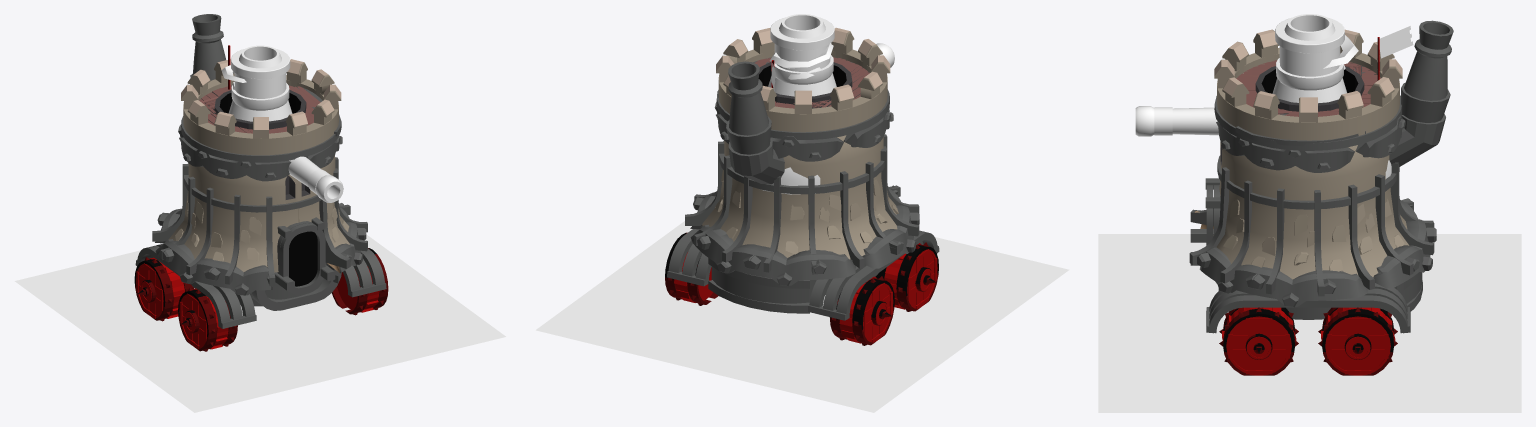
The model's file is Mob_MortarTower.glb.
3 views of the same model, side by side, from view 1: azimuth 30°, elevation 25°; view 2: azimuth 150°, elevation 25°; view 3: azimuth 270°, elevation 25° (orthographic). The views are drawn at different scales.
Visible parts, largest first — view 1: MortarVehicle, VFX_Slow, Little_Mortar, radtest (2), radtest (1), Cube.119, radtest; view 2: MortarVehicle, VFX_Slow, Little_Mortar, radtest (1) (×2), radtest (2), Wanderburg_Models_tf_Stun_001; view 3: MortarVehicle, VFX_Slow, Little_Mortar, radtest, radtest (1), Cube.119, Flag, Wanderburg_Models_tf_Stun_001.
Boxes of the visible parts, x1,y1,x2,y2 form: MortarVehicle: [135, 14, 386, 328]; VFX_Slow: [14, 234, 505, 412]; Little_Mortar: [228, 45, 292, 121]; radtest (2): [134, 257, 193, 321]; radtest (1): [178, 287, 237, 351]; Cube.119: [288, 156, 343, 202]; radtest: [332, 248, 388, 315]; MortarVehicle: [667, 27, 939, 320]; VFX_Slow: [536, 212, 1069, 412]; Little_Mortar: [768, 14, 836, 96]; radtest (1) (×2): [665, 232, 938, 311]; radtest (2): [829, 276, 894, 345]; Wanderburg_Models_tf_Stun_001: [769, 43, 833, 79]; MortarVehicle: [1189, 20, 1453, 333]; VFX_Slow: [1098, 234, 1521, 412]; Little_Mortar: [1272, 14, 1346, 103]; radtest: [1219, 307, 1298, 375]; radtest (1): [1318, 307, 1397, 375]; Cube.119: [1135, 106, 1218, 136]; Flag: [1379, 26, 1413, 58]; Wanderburg_Models_tf_Stun_001: [1323, 35, 1358, 69].
Bounding box in the file's own units: 25.03 × 20.03 × 25.03.
Materials: 19 (6 with a texture image).
